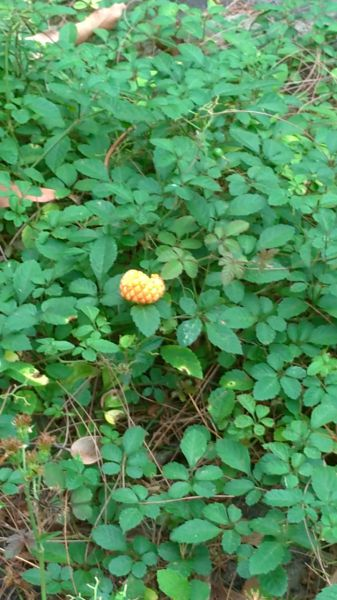eggs: (116, 264, 169, 305)
